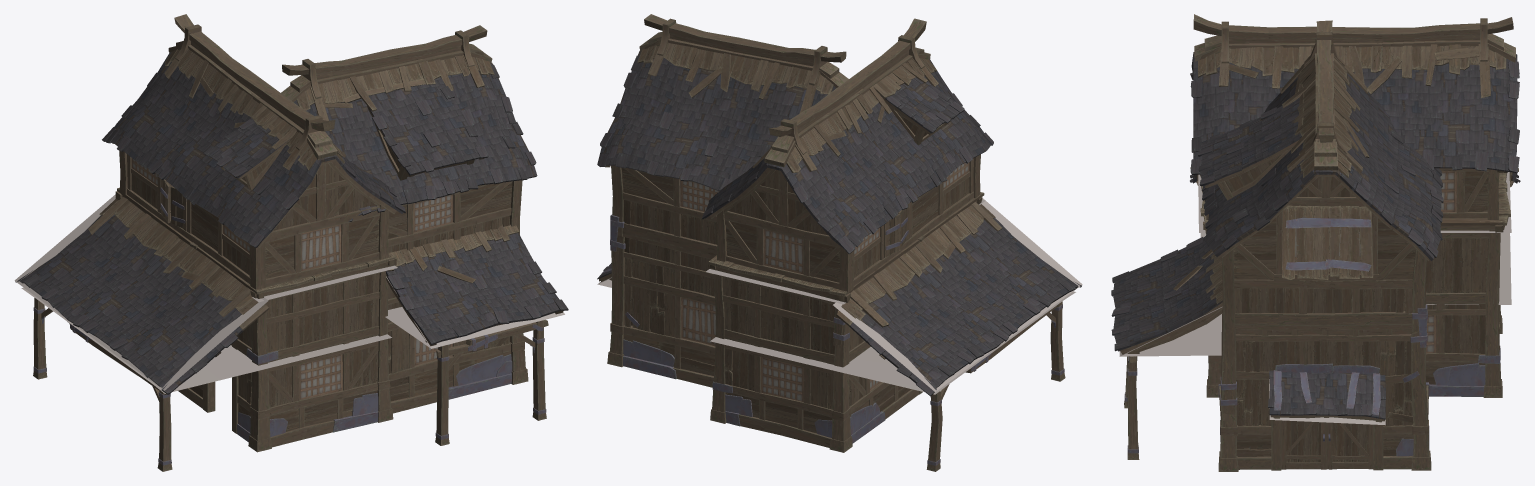
The model's file is Homeworld_Exterior_Dq_Build_House_17_Lod0.fbx.
The picture shows the model from 3 angles, left to right: view 1: azimuth 30°, elevation 25°; view 2: azimuth 150°, elevation 25°; view 3: azimuth 270°, elevation 25°; orthographic projection. The views are drawn at different scales.
Parts seen in each view (by area): view 1: Area_Dq_Build_SWZ_LuXin_05_Lod0, Area_Dq_Build_SWZ_LuXin_04_Lod0, Area_Dq_Build_SWZ_LuXin_03_Lod0, Area_Dq_Build_SWZ_LuXin_06_Lod0, Area_Dq_Build_SWZ_LuXin_05_Ocl, Area_Dq_Build_SWZ_LuXin_06_Ocl; view 2: Area_Dq_Build_SWZ_LuXin_05_Lod0, Area_Dq_Build_SWZ_LuXin_03_Lod0, Area_Dq_Build_SWZ_LuXin_04_Lod0, Area_Dq_Build_SWZ_LuXin_05_Ocl; view 3: Area_Dq_Build_SWZ_LuXin_03_Lod0, Area_Dq_Build_SWZ_LuXin_04_Lod0, Area_Dq_Build_SWZ_LuXin_05_Lod0, Area_Dq_Build_SWZ_LuXin_06_Lod0, Area_Dq_Build_SWZ_LuXin_06_Ocl, Area_Dq_Build_SWZ_LuXin_05_Ocl, Area_Dq_Build_SWZ_LuXin_03_Ocl.
Boxes of the visible parts, left/top/right/bottom form: Area_Dq_Build_SWZ_LuXin_05_Lod0: left=15, top=182, right=396, bottom=471; Area_Dq_Build_SWZ_LuXin_04_Lod0: left=102, top=14, right=405, bottom=289; Area_Dq_Build_SWZ_LuXin_03_Lod0: left=281, top=25, right=537, bottom=413; Area_Dq_Build_SWZ_LuXin_06_Lod0: left=386, top=224, right=568, bottom=445; Area_Dq_Build_SWZ_LuXin_05_Ocl: left=14, top=194, right=397, bottom=393; Area_Dq_Build_SWZ_LuXin_06_Ocl: left=385, top=276, right=564, bottom=348; Area_Dq_Build_SWZ_LuXin_05_Lod0: left=708, top=192, right=1081, bottom=471; Area_Dq_Build_SWZ_LuXin_03_Lod0: left=597, top=14, right=848, bottom=387; Area_Dq_Build_SWZ_LuXin_04_Lod0: left=702, top=18, right=993, bottom=292; Area_Dq_Build_SWZ_LuXin_05_Ocl: left=706, top=198, right=1082, bottom=394; Area_Dq_Build_SWZ_LuXin_03_Lod0: left=1198, top=20, right=1443, bottom=471; Area_Dq_Build_SWZ_LuXin_04_Lod0: left=1190, top=14, right=1519, bottom=219; Area_Dq_Build_SWZ_LuXin_05_Lod0: left=1190, top=167, right=1520, bottom=397; Area_Dq_Build_SWZ_LuXin_06_Lod0: left=1111, top=236, right=1222, bottom=459; Area_Dq_Build_SWZ_LuXin_06_Ocl: left=1119, top=306, right=1222, bottom=356; Area_Dq_Build_SWZ_LuXin_05_Ocl: left=1198, top=172, right=1511, bottom=304; Area_Dq_Build_SWZ_LuXin_03_Ocl: left=1269, top=379, right=1385, bottom=425.
Size of what is drawn, in the model's own units: 15.74 by 11.82 by 12.51.
